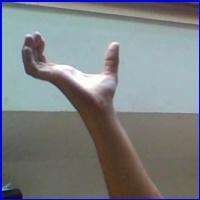B: (19, 31, 132, 113)
